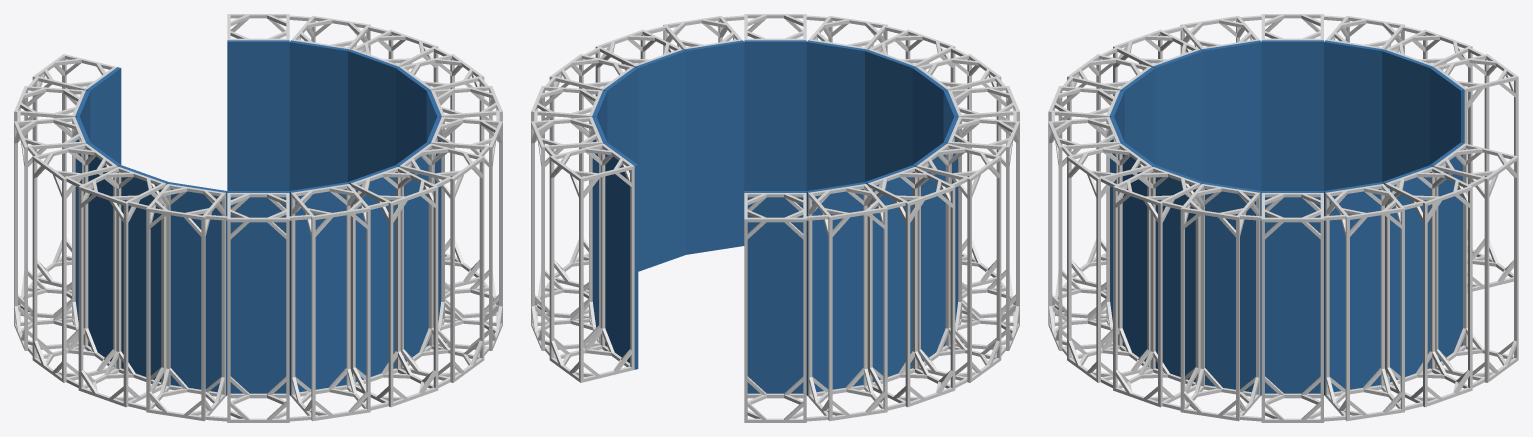
The model's file is CC_DESTINY_MODEL.fbx.
3 renders of one model, left to right at view 1: azimuth 30°, elevation 25°; view 2: azimuth 150°, elevation 25°; view 3: azimuth 270°, elevation 25°, orthographic.
Visible parts, largest first — view 1: Group.4, Group.5; view 2: Group.4, Group.5; view 3: Group.4, Group.5.
Boxes of the visible parts, x1,y1,x2,y2 form: Group.4: (75, 40, 441, 395); Group.5: (14, 14, 502, 422); Group.4: (592, 40, 958, 395); Group.5: (531, 14, 1019, 422); Group.4: (1109, 40, 1464, 395); Group.5: (1048, 14, 1518, 422).
Size of the model in its own units: 216 by 103 by 209.
